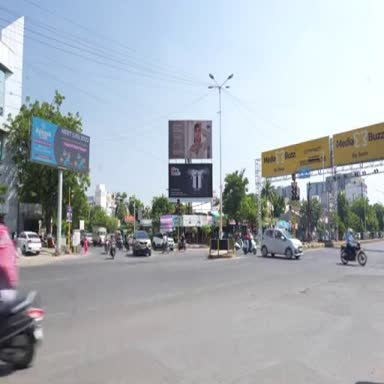Car: (261, 230, 302, 259), (18, 232, 41, 254), (132, 231, 152, 256), (153, 233, 164, 250), (81, 234, 92, 246)
